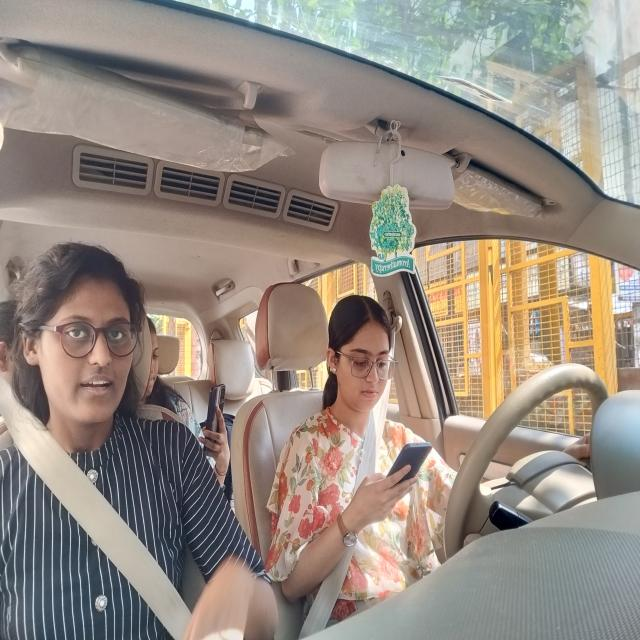mobile: (388, 438, 434, 492)
person: (23, 239, 138, 436), (326, 295, 396, 416), (139, 307, 162, 400)
